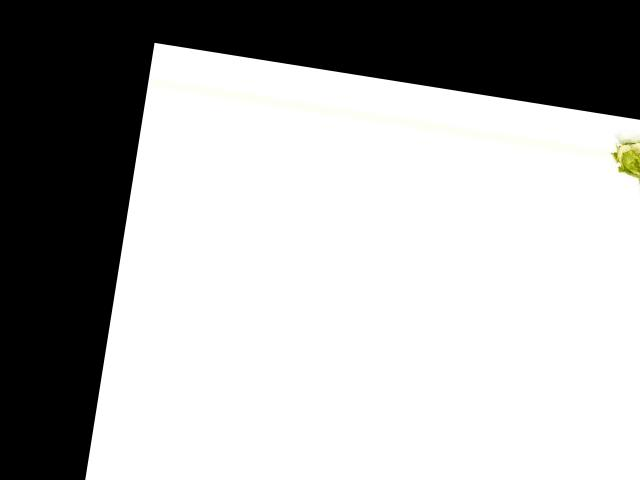lettuce: (629, 166, 640, 219)
